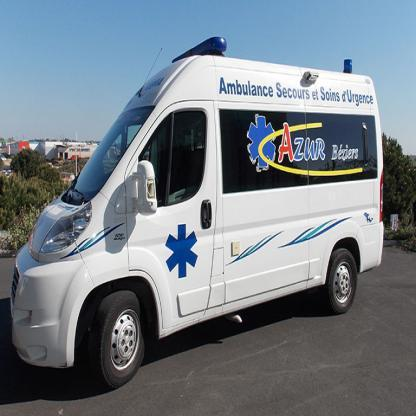Ambulance - v1 Ambulance last generate: (6, 29, 386, 385)
